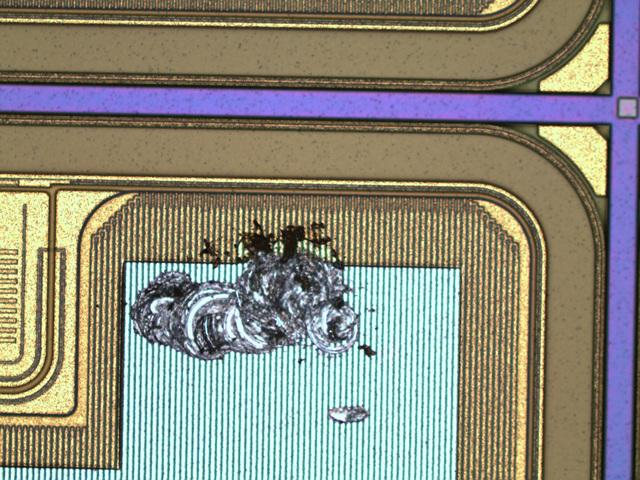SCRATCH: (121, 215, 386, 429)
